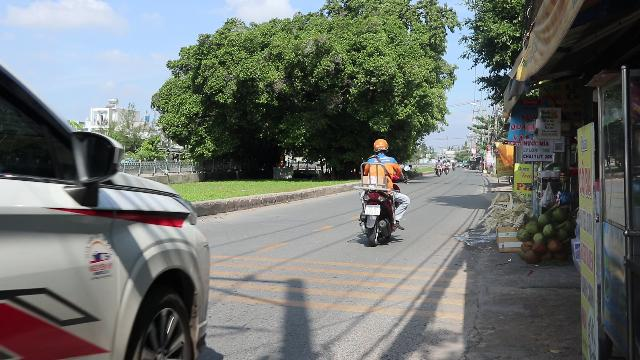helmet: (372, 138, 388, 154)
licenseplate: (365, 205, 379, 215)
motorcyclist: (354, 138, 408, 244)
